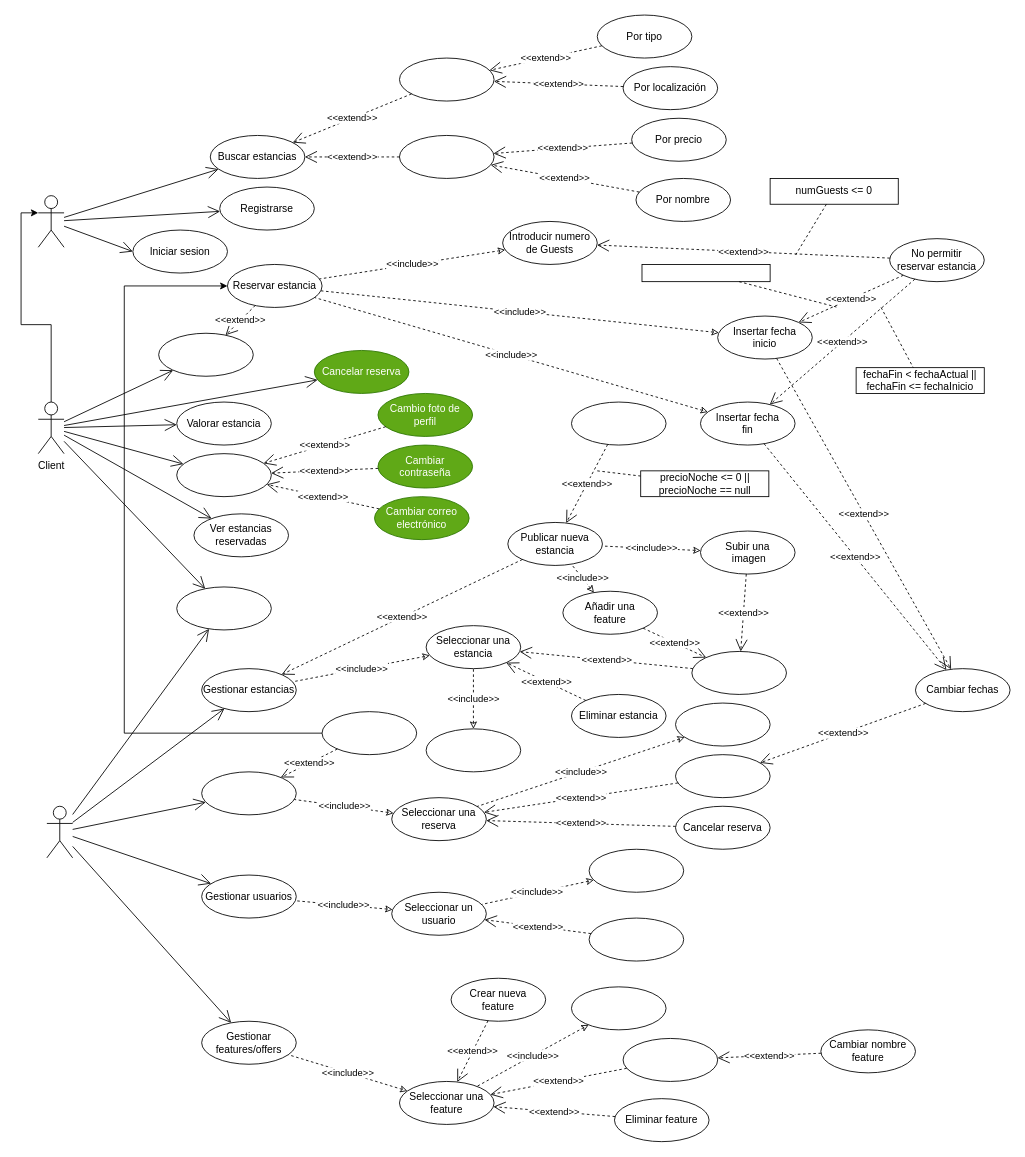
The diagram is 1025 pixels wide and 1157 high, and some of its shapes have lost their labels. The shapes that lost their labels are listed below. From the top down, each one's centre as x and y in pixels, then its label:
At (x=446, y=79): "Filtrar estancias".
At (x=446, y=156): "Ordenar estancias".
At (x=50, y=221): "Visitor".
At (x=705, y=273): "fechaInicio <= fechaActual".
At (x=205, y=354): "Seleccionar estancia".
At (x=618, y=423): "No permitir publicar estancia".
At (x=223, y=475): "Editar perfil".
At (x=223, y=608): "Cerrar sesión".
At (x=738, y=672): "Editar estancia".
At (x=369, y=733): "Crear una reserva".
At (x=722, y=724): "Mostrar reservas".
At (x=473, y=750): "Mostrar estancias".
At (x=248, y=793): "Gestionar reservas".
At (x=722, y=776): "Editar reserva".
At (x=59, y=831): "Admin".
At (x=636, y=870): "Mostrar usuarios".
At (x=636, y=939): "Eliminar usuario".
At (x=618, y=1008): "Mostrar features".
At (x=670, y=1059): "Editar feature".
